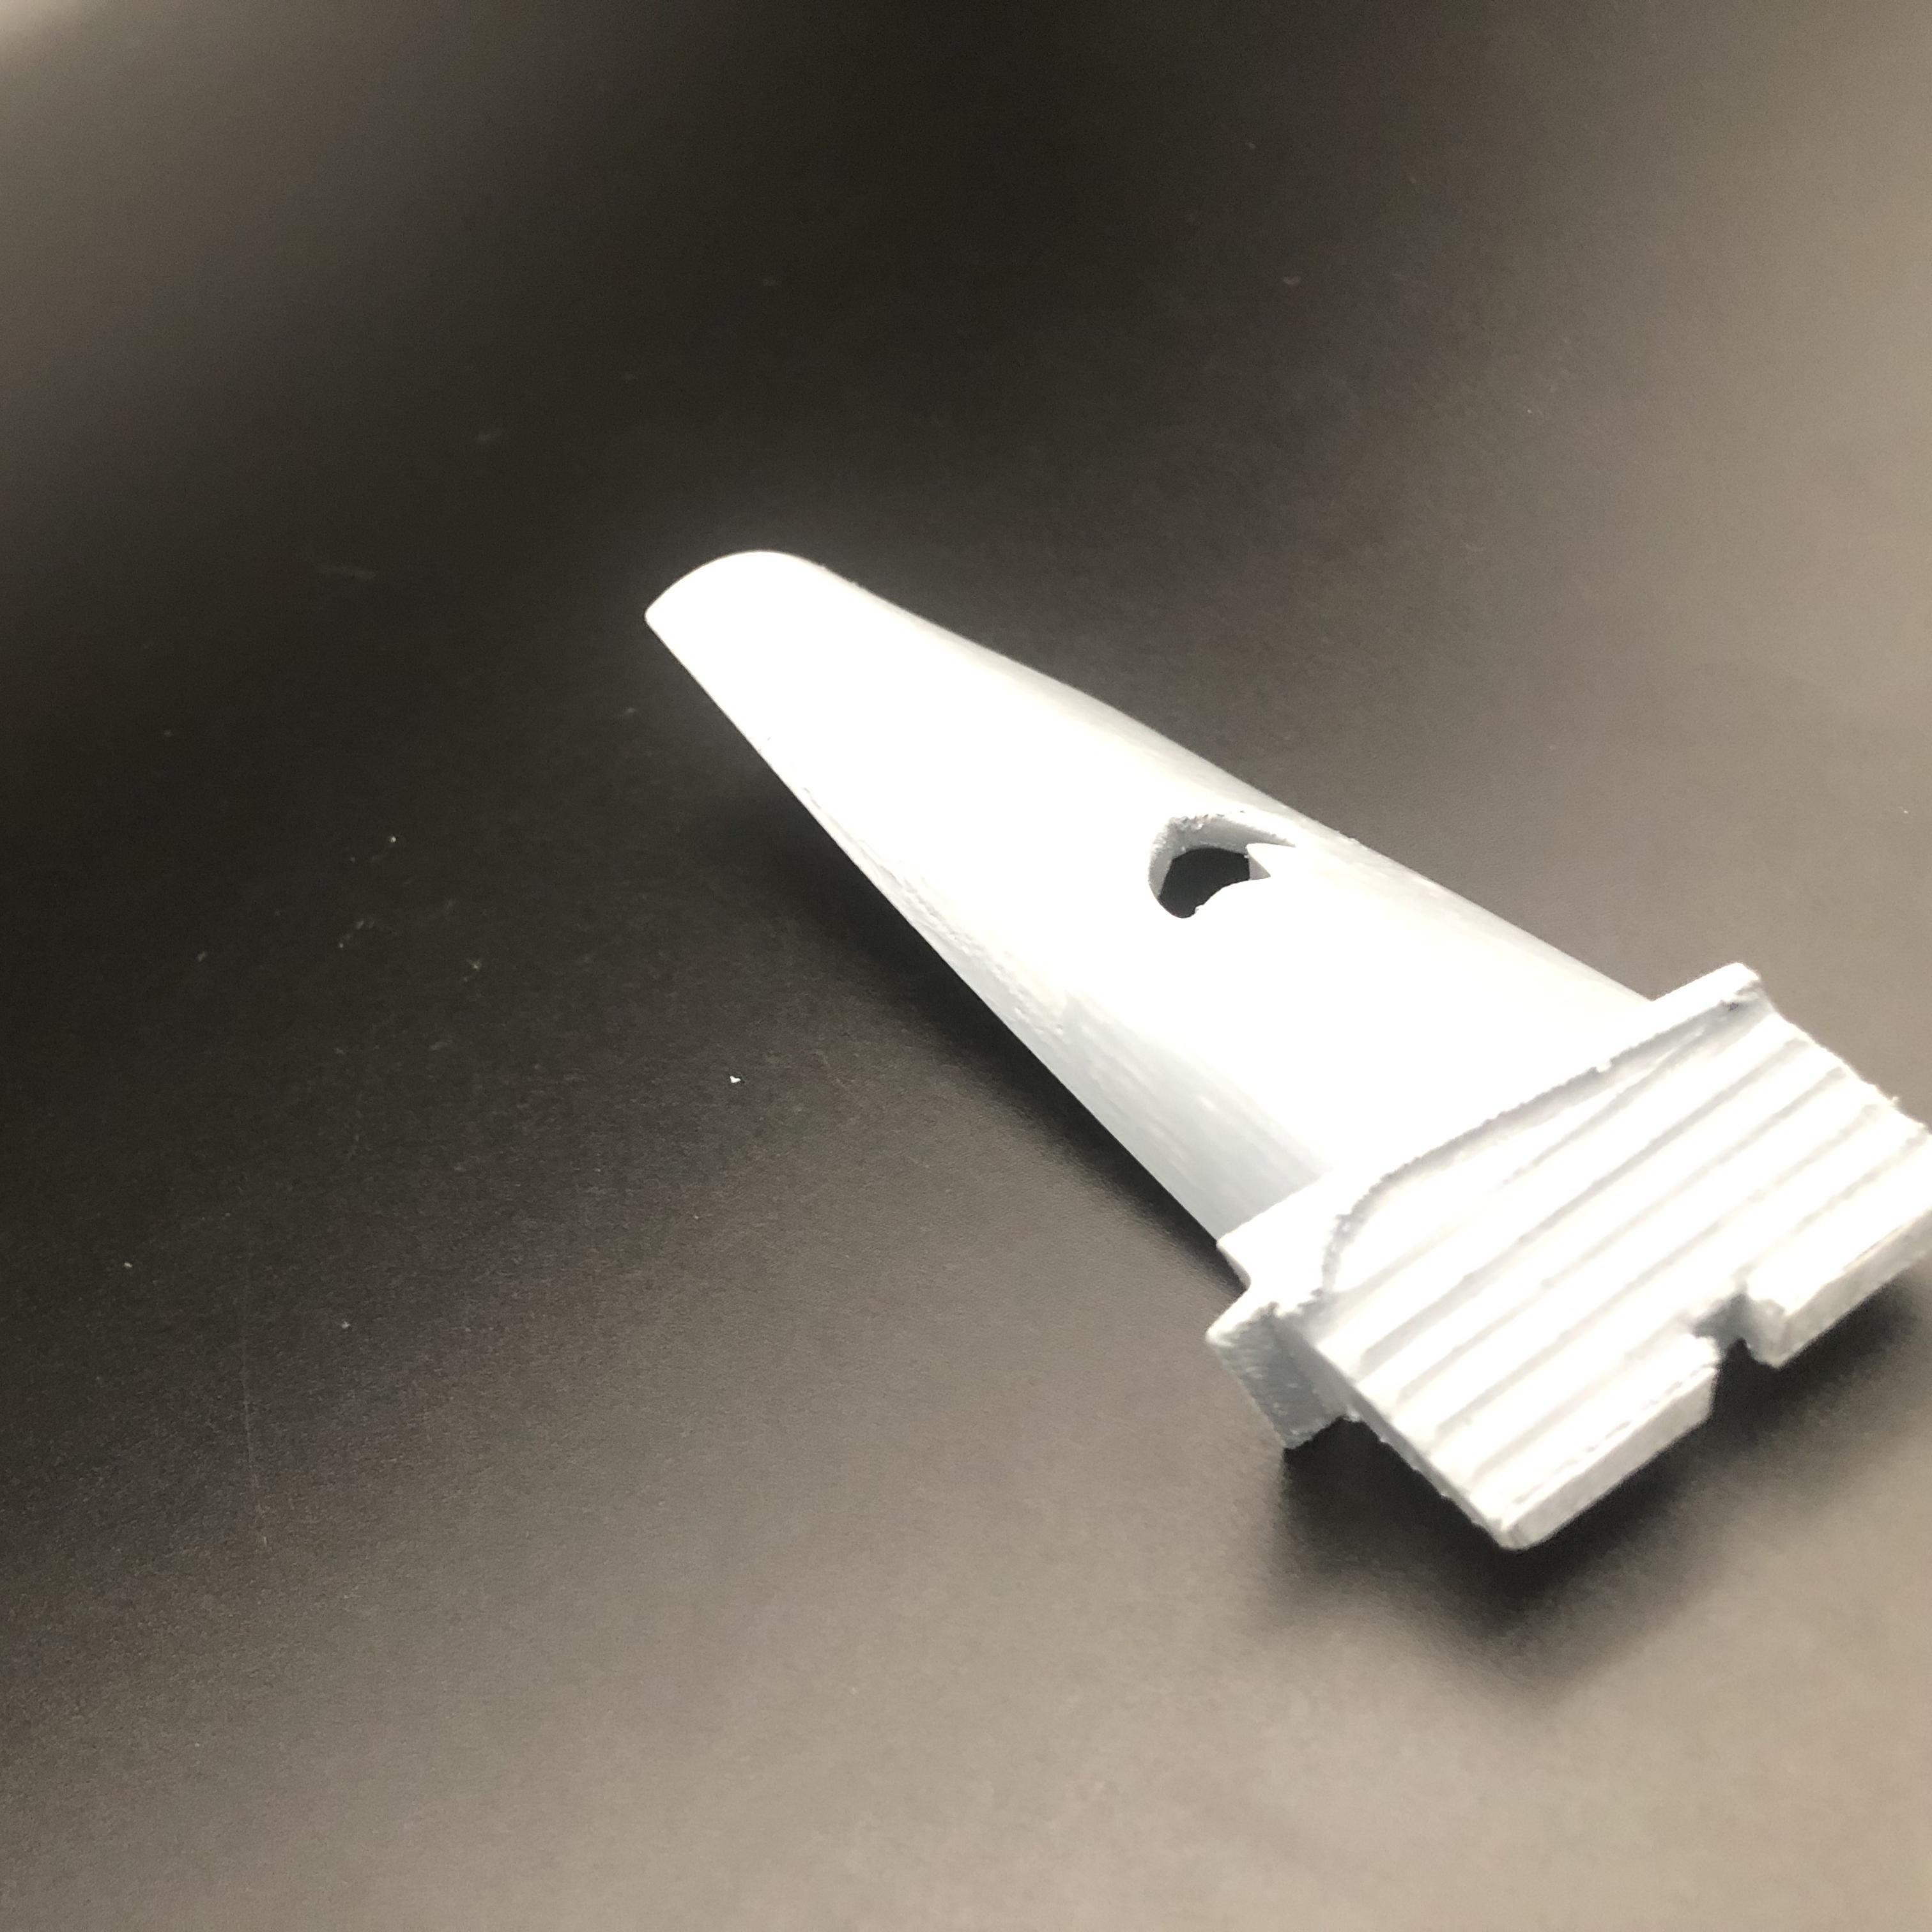breakdown: (1145, 794, 1299, 936)
